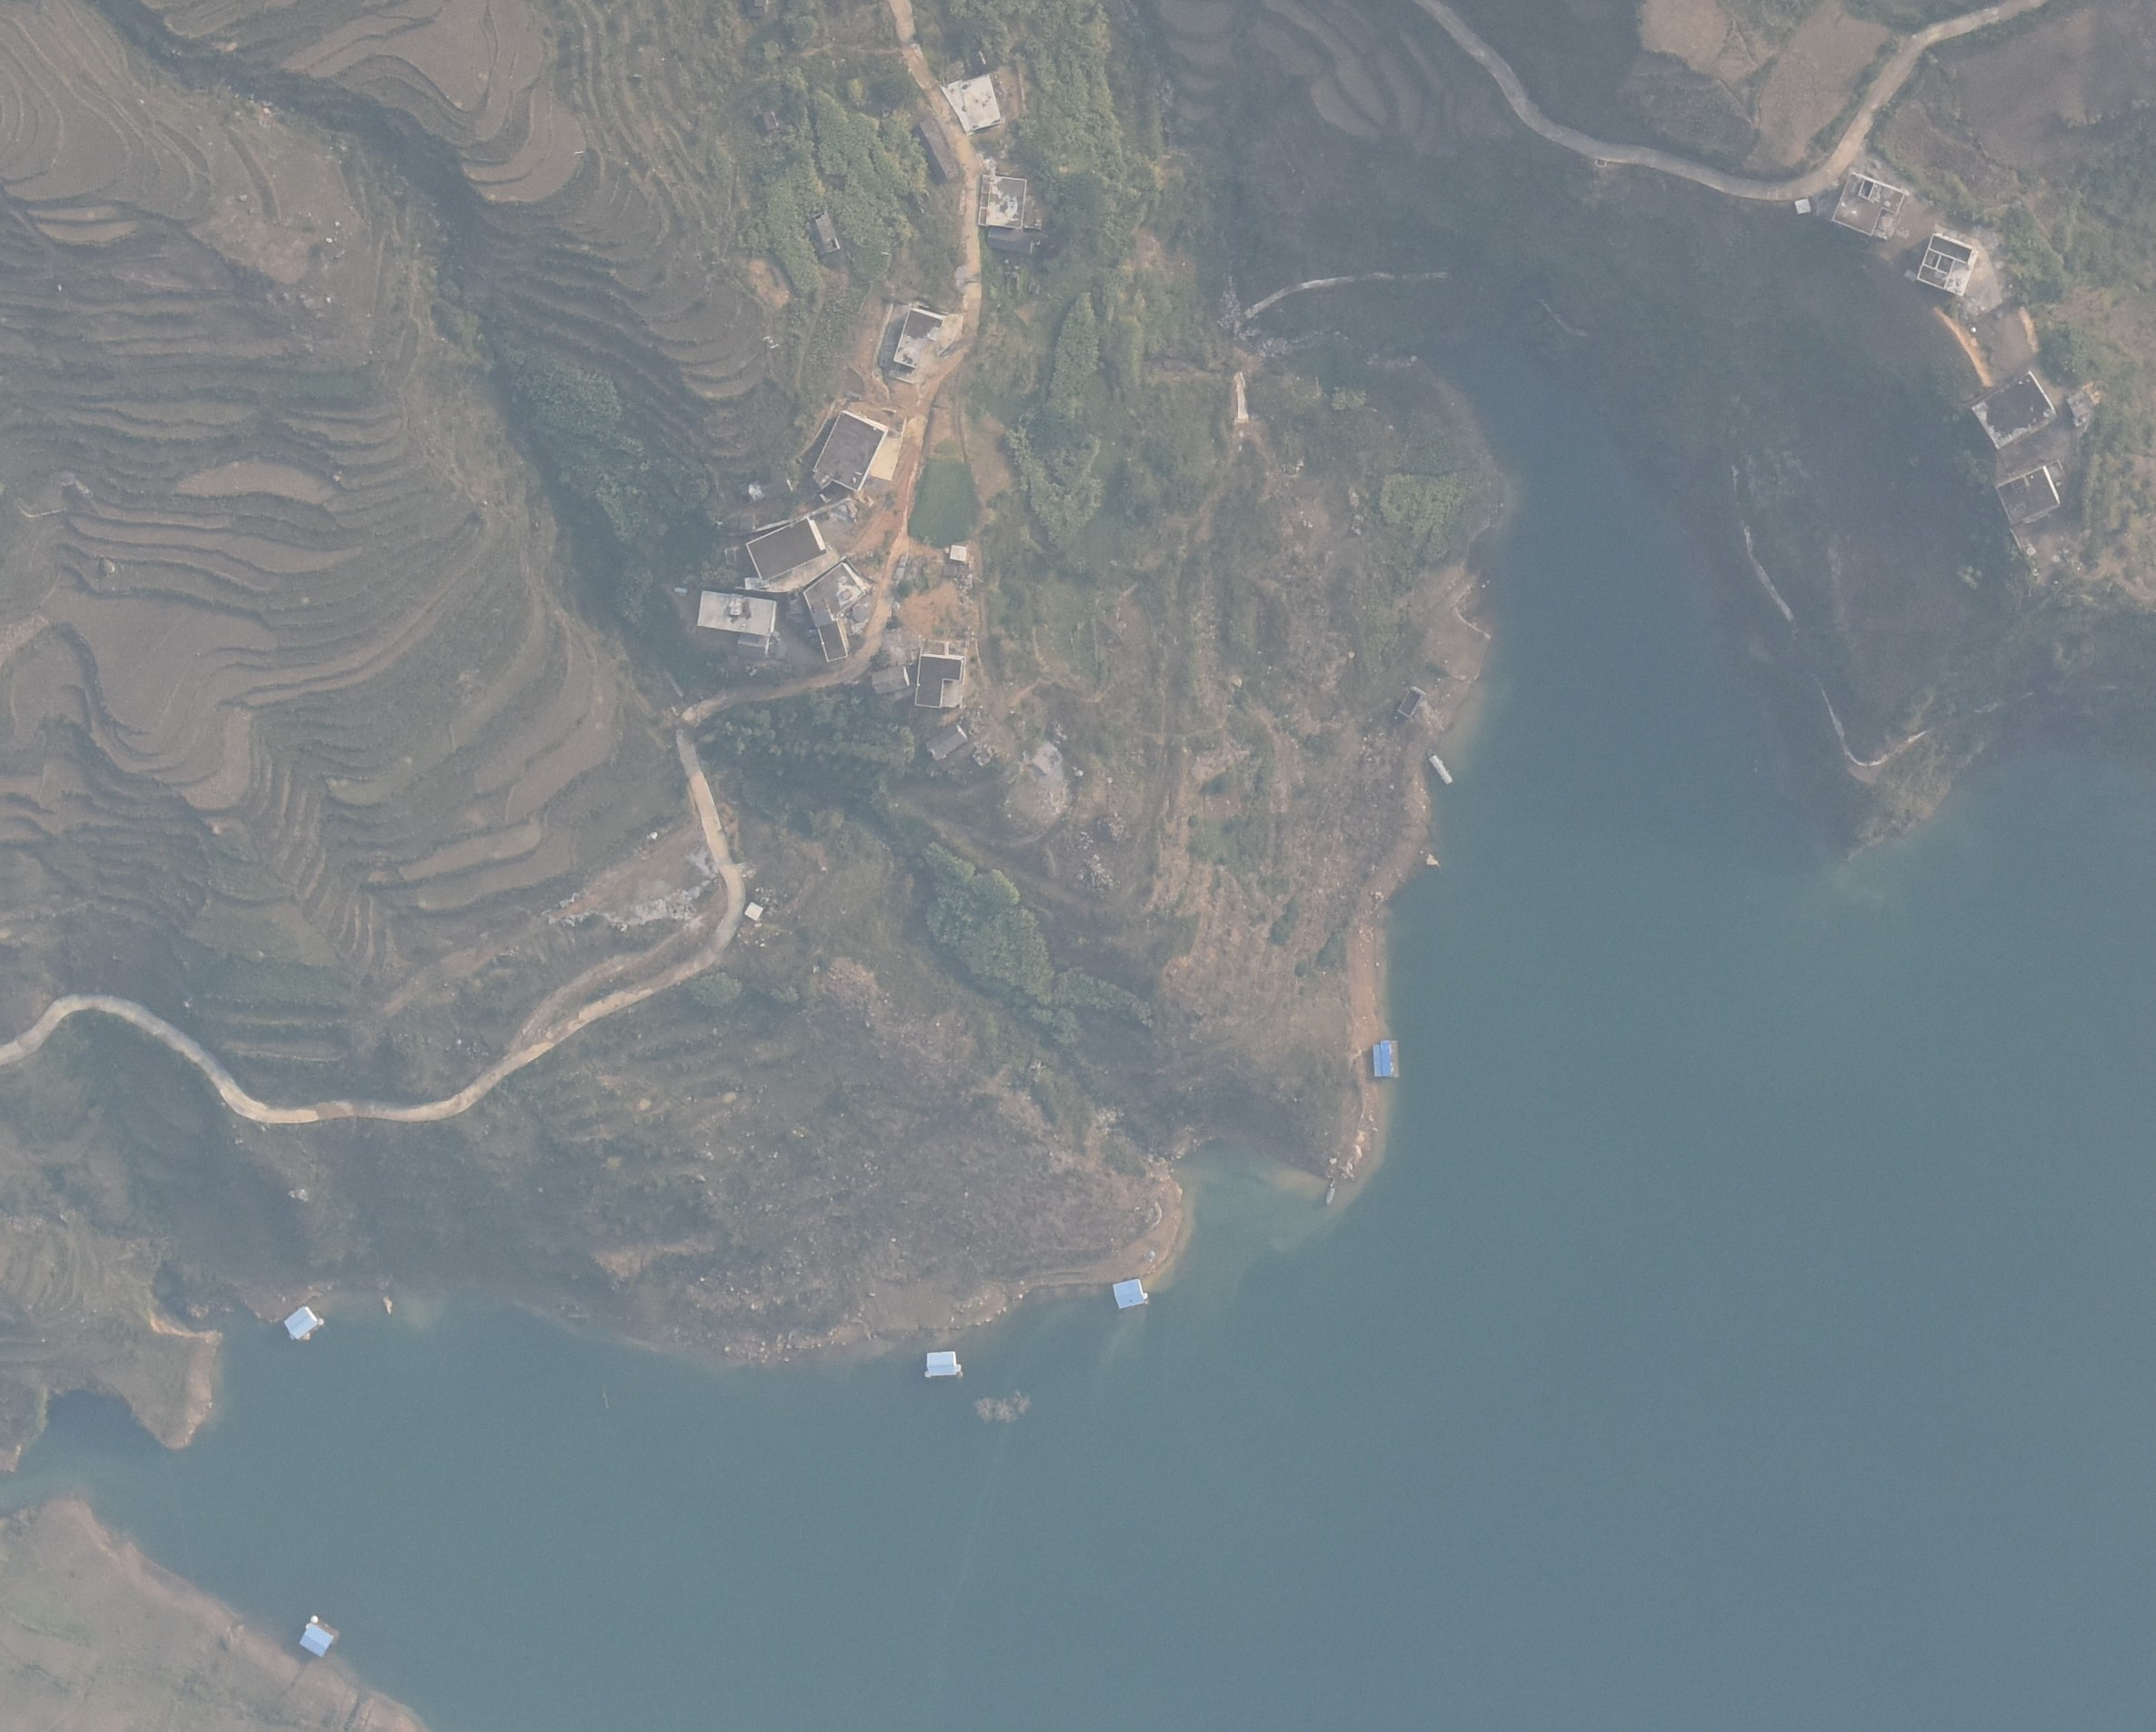building: (1971, 371, 2055, 454), (815, 409, 892, 496), (739, 516, 827, 582), (1829, 172, 1910, 241), (803, 561, 873, 627), (694, 588, 777, 637), (1915, 235, 1975, 299), (890, 307, 946, 372), (912, 114, 962, 183), (974, 175, 1029, 233), (915, 651, 966, 711), (958, 76, 1002, 131), (921, 724, 969, 765), (802, 204, 838, 256), (982, 224, 1033, 258), (817, 619, 851, 664), (870, 664, 910, 694), (736, 629, 773, 658), (756, 109, 776, 132), (745, 899, 764, 922), (948, 544, 968, 562), (1796, 197, 1812, 214)
prefabricated-house: (1992, 468, 2062, 528), (282, 1306, 323, 1350), (298, 1619, 340, 1659), (1366, 1037, 1397, 1084), (1112, 1276, 1148, 1308), (920, 1349, 961, 1377), (2067, 392, 2092, 428)
ship: (1419, 747, 1454, 787)
